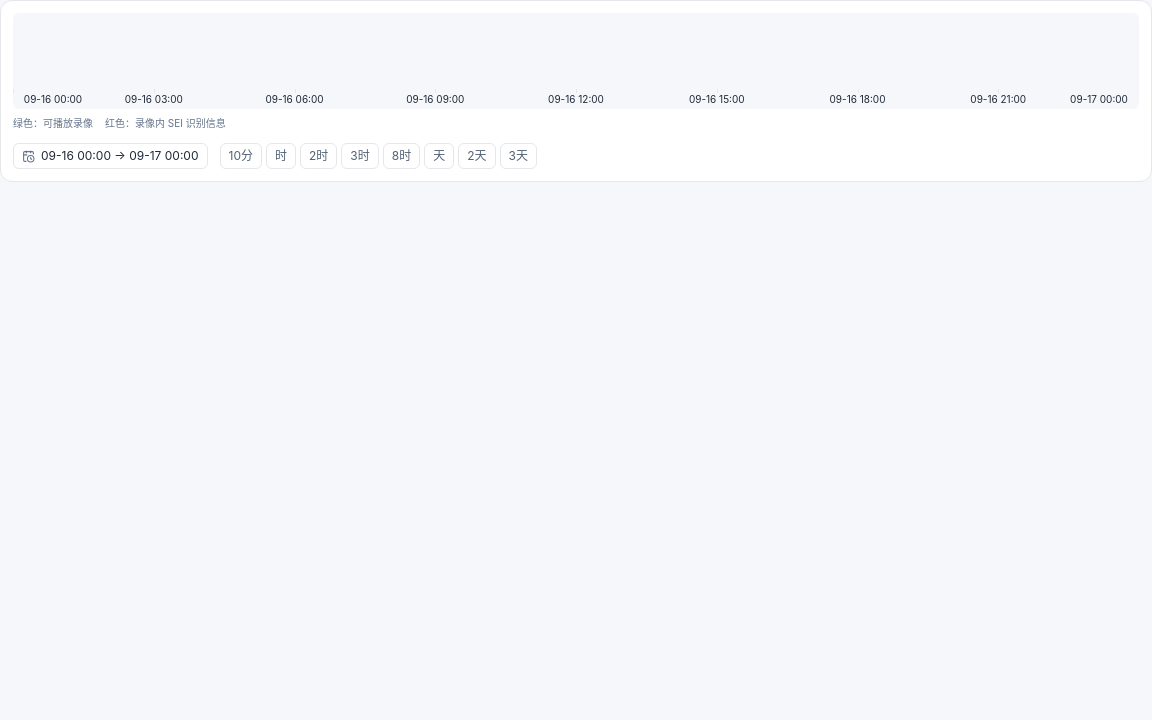
RecordingTimeline —— 时间范围触发器/弹窗/预设（与识别历史页共用同一套组件） › 弹窗确定后应用新范围、清除预设选中态
先点一个预设，确认它会被点亮，再验证弹窗确定后它会熄灭
Click the button "天" at (439, 156), box [424, 143, 454, 169]
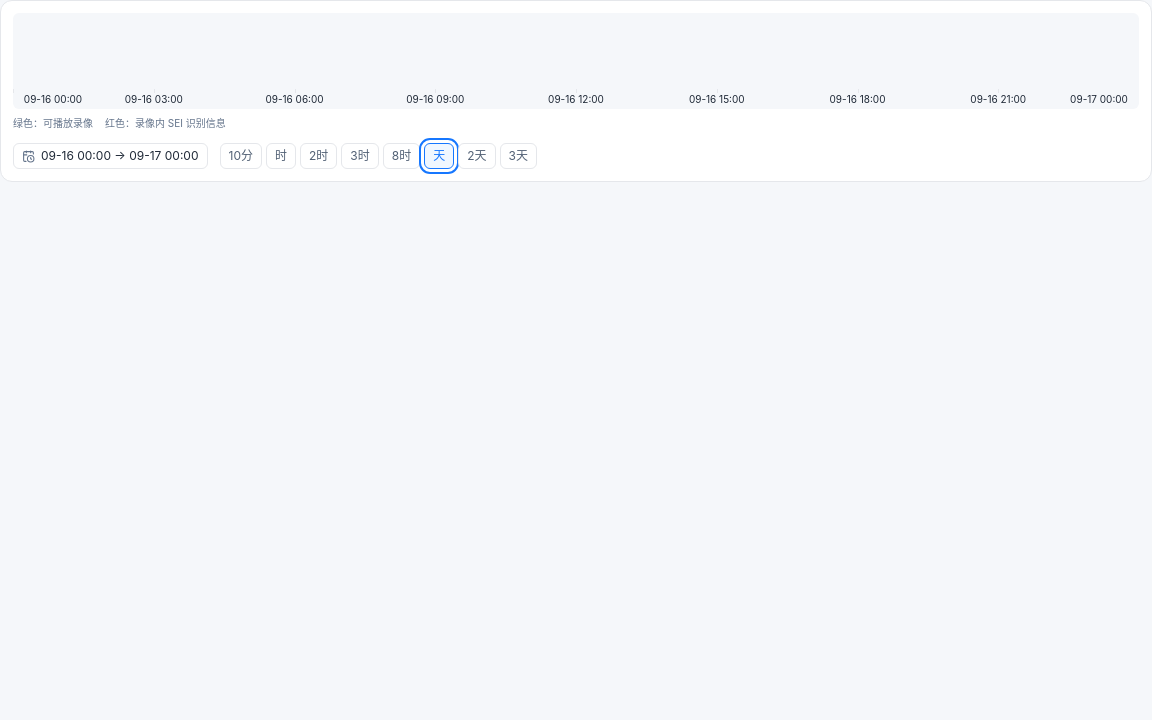
Expected: the button "天" is pressed, [424, 143, 454, 169]
Click the button with test id "range-trigger" at (110, 156), box [13, 143, 208, 169]
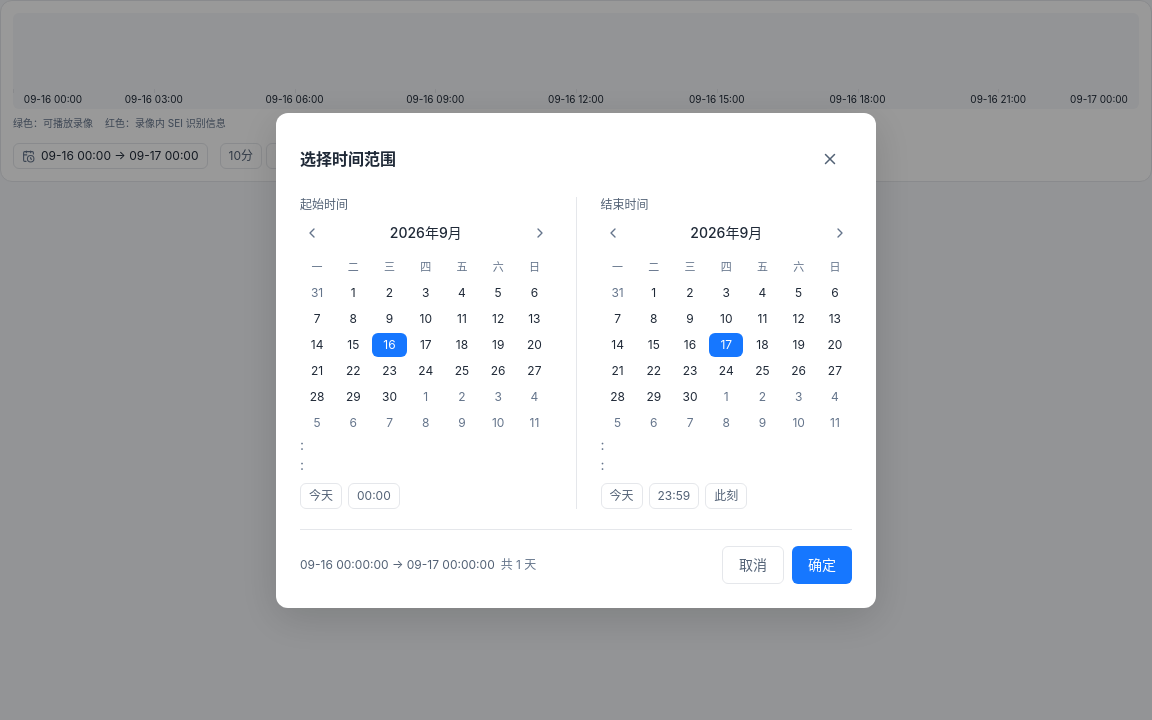
Click the button "00:00" at (374, 496), box [348, 482, 400, 508]
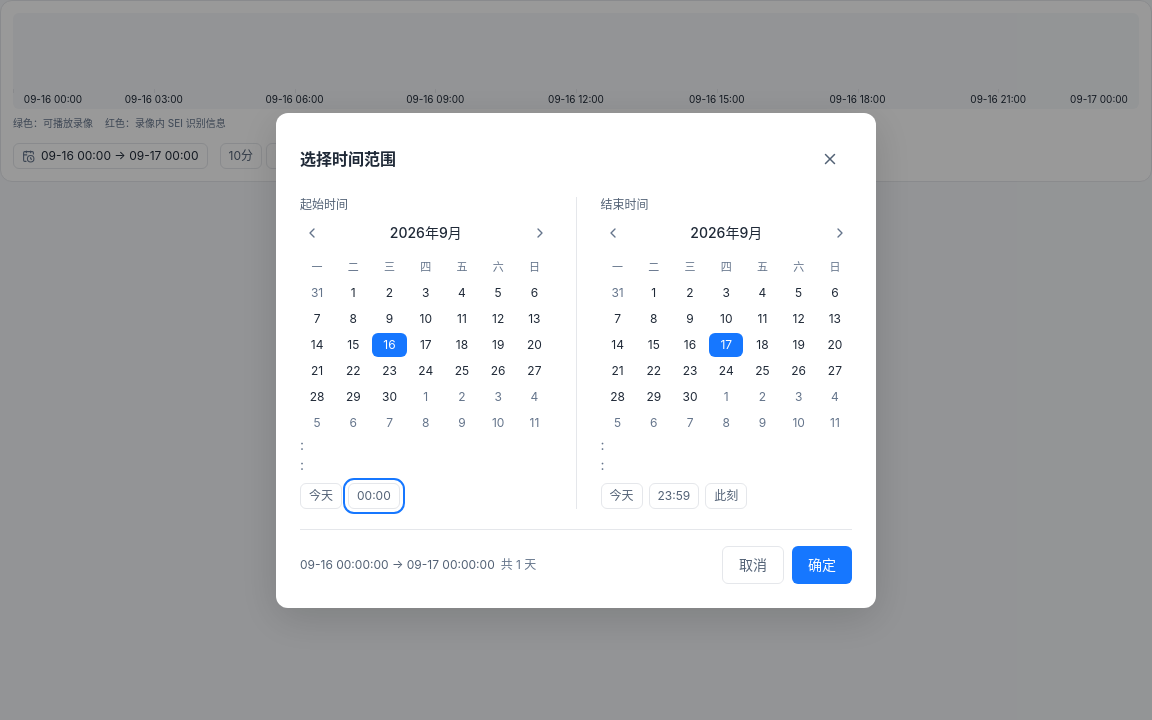
Click the button with test id "range-picker-confirm" at (822, 564), box [792, 546, 852, 584]
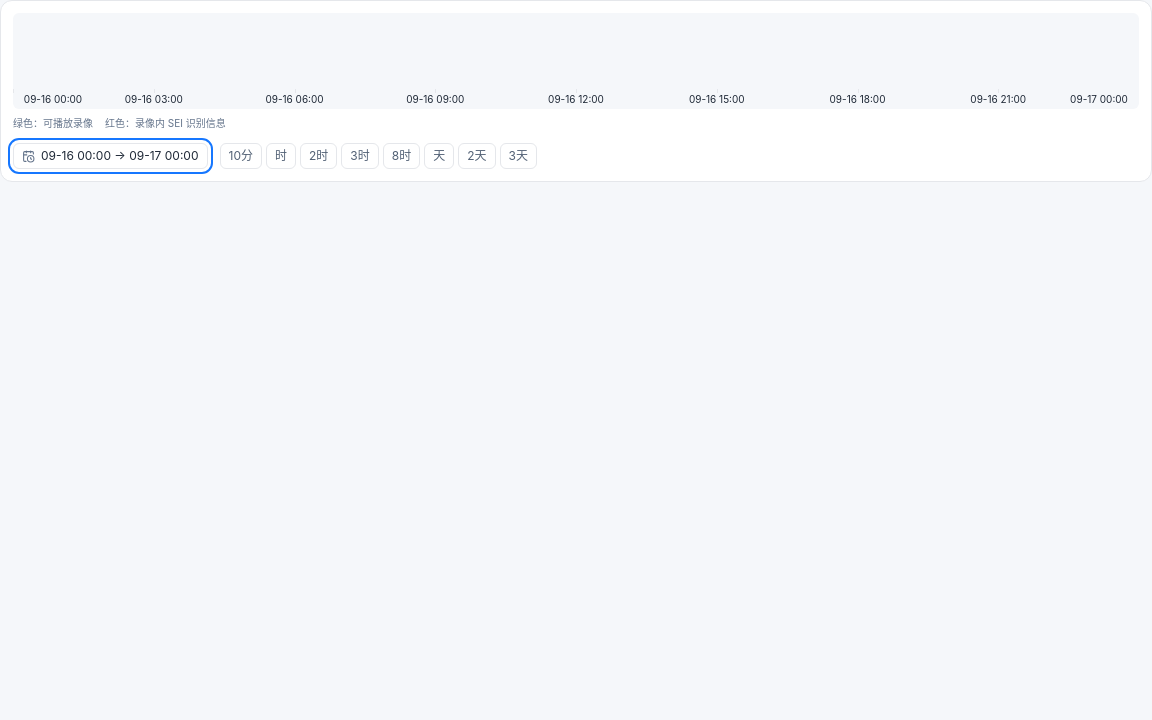
Expected: the dialog is gone
